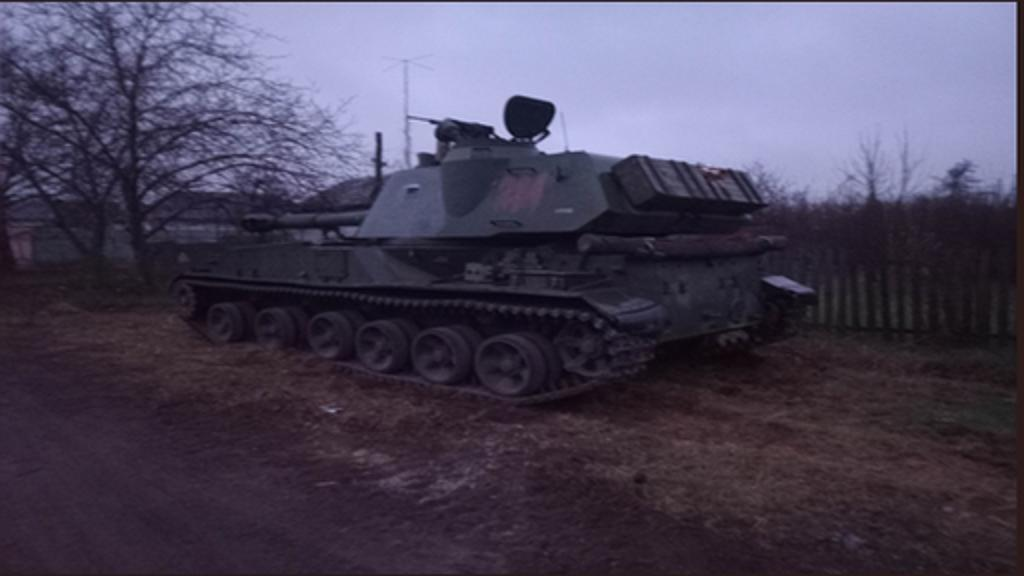ART: (164, 84, 818, 418)
